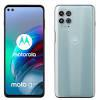Smartphone: (5, 5, 45, 96), (55, 5, 94, 98)
